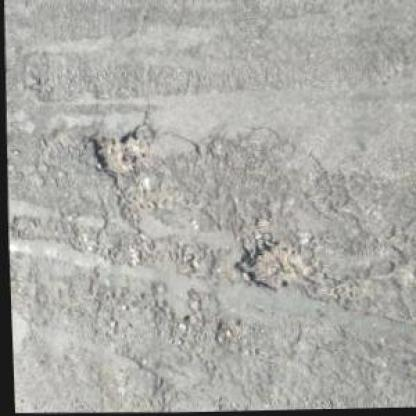pothole: (229, 237, 301, 293), (85, 125, 151, 179)
